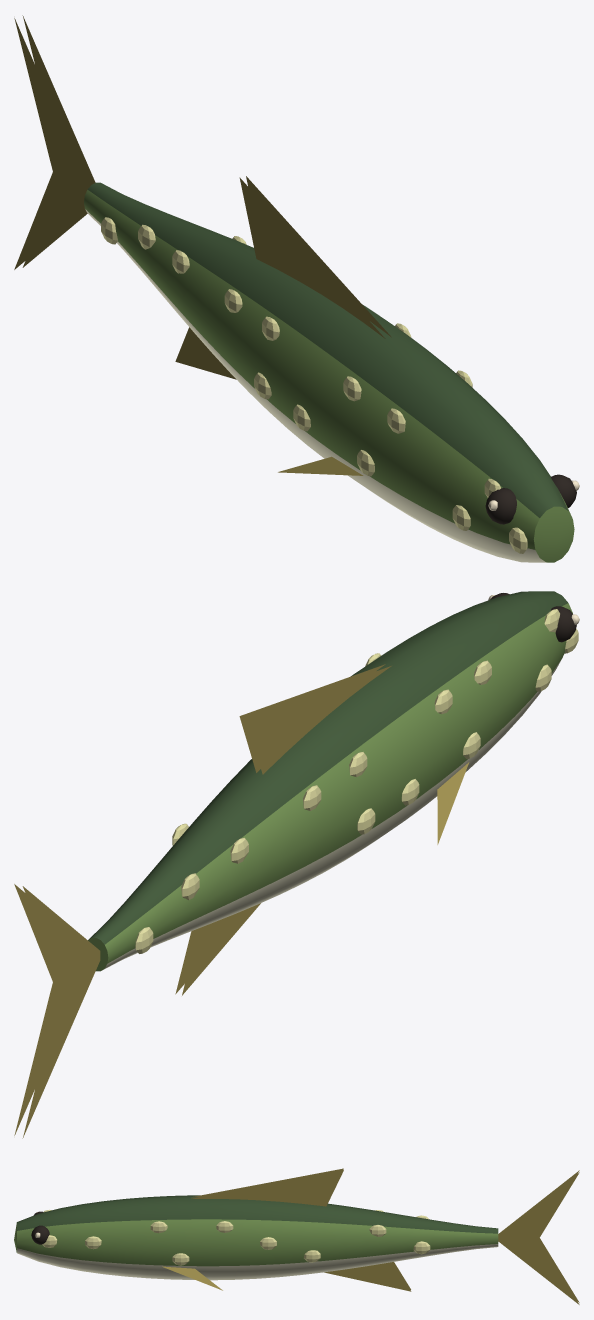
The model's file is Fish_Pike.fbx.
3 renders of one model, top to bottom at view 1: azimuth 30°, elevation 25°; view 2: azimuth 150°, elevation 25°; view 3: azimuth 270°, elevation 25°, orthographic. The views are drawn at different scales.
Visible parts, largest first — view 1: Fish_Pike.001; view 2: Fish_Pike.001; view 3: Fish_Pike.001.
Part boxes in pixels (left/top/right/bottom): Fish_Pike.001: left=14, top=15, right=579, bottom=562; Fish_Pike.001: left=14, top=591, right=579, bottom=1138; Fish_Pike.001: left=14, top=1168, right=579, bottom=1304.
Size of the model in its own units: 0.1523 by 0.2325 by 0.882.
